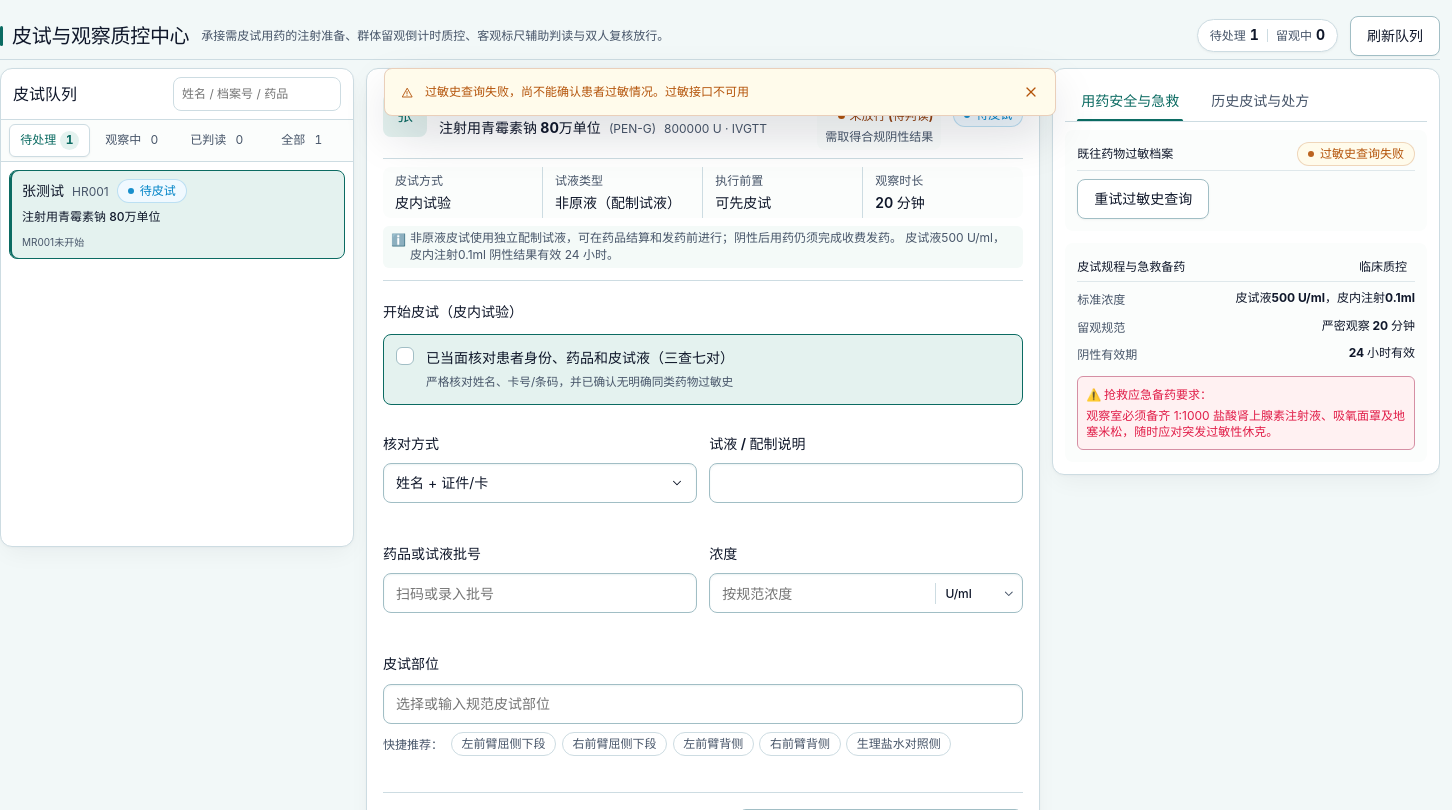
Test case: SkinTestManagementWorkspace › shows failed allergy queries as unknown and retries without inventing a negative history
Check: the text "过敏史查询失败" is shown, box [1297, 142, 1415, 166]
Check: the text "暂无过敏登记" is not shown
Click the button "重试过敏史查询": [1143, 199] box [1077, 179, 1209, 219]
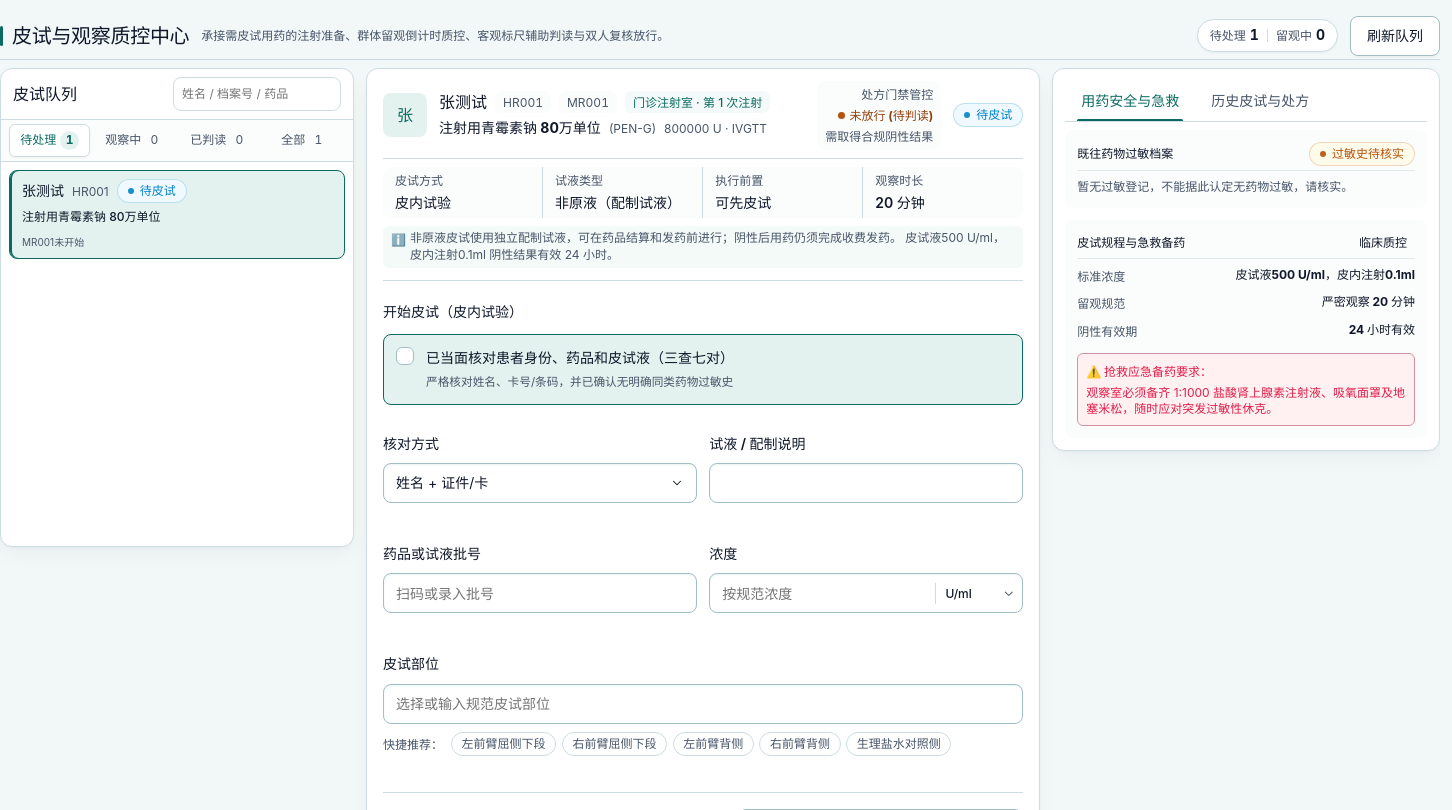
Check: the text "过敏史待核实" is shown, box [1309, 142, 1415, 166]
Check: the text "暂无过敏登记，不能据此认定无药物过敏，请核实。" is shown, box [1077, 179, 1353, 194]
